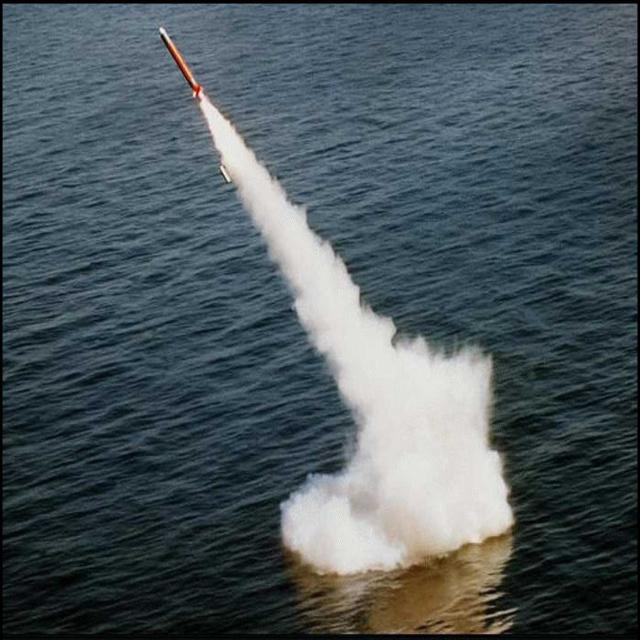missile: (158, 22, 202, 98)
